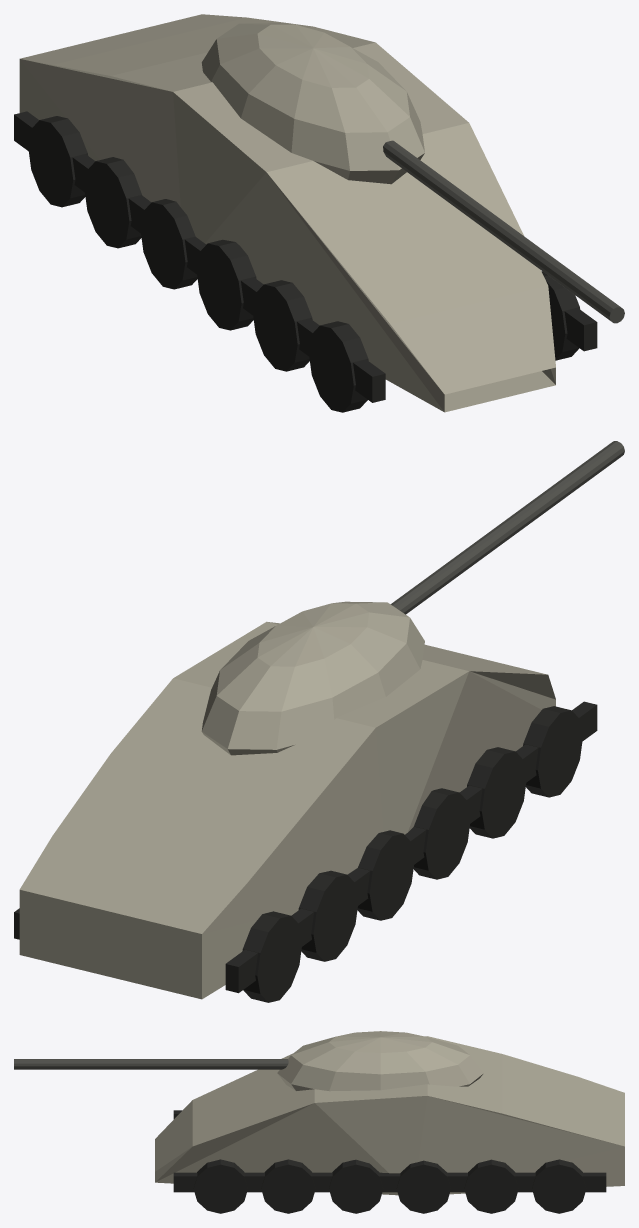
3 views of the same model, one above another, from view 1: azimuth 30°, elevation 25°; view 2: azimuth 150°, elevation 25°; view 3: azimuth 270°, elevation 25° (orthographic). The views are drawn at different scales.
Parts seen in each view (by area): view 1: Hull, Turret, Gun, Track_L, Wheel_L_01, Wheel_L_02, Wheel_L_06, Wheel_L_03, Wheel_L_05, Wheel_L_04, Wheel_R_01, Track_R; view 2: Hull, Turret, Gun, Track_L, Wheel_L_06, Wheel_L_01, Wheel_L_02, Wheel_L_05, Wheel_L_03, Wheel_L_04; view 3: Hull, Turret, Gun, Track_R, Wheel_R_01, Wheel_R_06, Wheel_R_02, Wheel_R_05, Wheel_R_03, Wheel_R_04.
Boxes of the visible parts, box(x1,y1,x2,y2) form: Hull: box(19, 14, 555, 412); Turret: box(201, 23, 424, 184); Gun: box(383, 140, 624, 323); Track_L: box(14, 111, 385, 402); Wheel_L_01: box(308, 321, 368, 412); Wheel_L_02: box(252, 280, 312, 371); Wheel_L_06: box(28, 116, 88, 207); Wheel_L_03: box(196, 239, 256, 330); Wheel_L_05: box(84, 157, 141, 248); Wheel_L_04: box(140, 199, 197, 289); Wheel_R_01: box(541, 271, 580, 360); Track_R: box(564, 308, 597, 351); Hull: box(19, 621, 555, 999); Turret: box(201, 601, 424, 755); Gun: box(390, 441, 624, 614); Track_L: box(225, 701, 597, 993); Wheel_L_06: box(242, 911, 302, 1002); Wheel_L_01: box(523, 706, 582, 797); Wheel_L_02: box(467, 747, 526, 838); Wheel_L_05: box(298, 870, 358, 961); Wheel_L_03: box(413, 788, 470, 879); Wheel_L_04: box(357, 830, 414, 920); Hull: box(155, 1036, 624, 1195); Turret: box(277, 1031, 483, 1091); Gun: box(14, 1059, 288, 1069); Track_R: box(173, 1172, 606, 1192); Wheel_R_01: box(193, 1159, 247, 1213); Wheel_R_06: box(532, 1159, 586, 1213); Wheel_R_02: box(261, 1159, 315, 1213); Wheel_R_05: box(464, 1159, 518, 1213); Wheel_R_03: box(329, 1159, 383, 1213); Wheel_R_04: box(396, 1160, 450, 1213).
Bounding box in the file's own units: 2.5 × 2.46 × 9.55.
